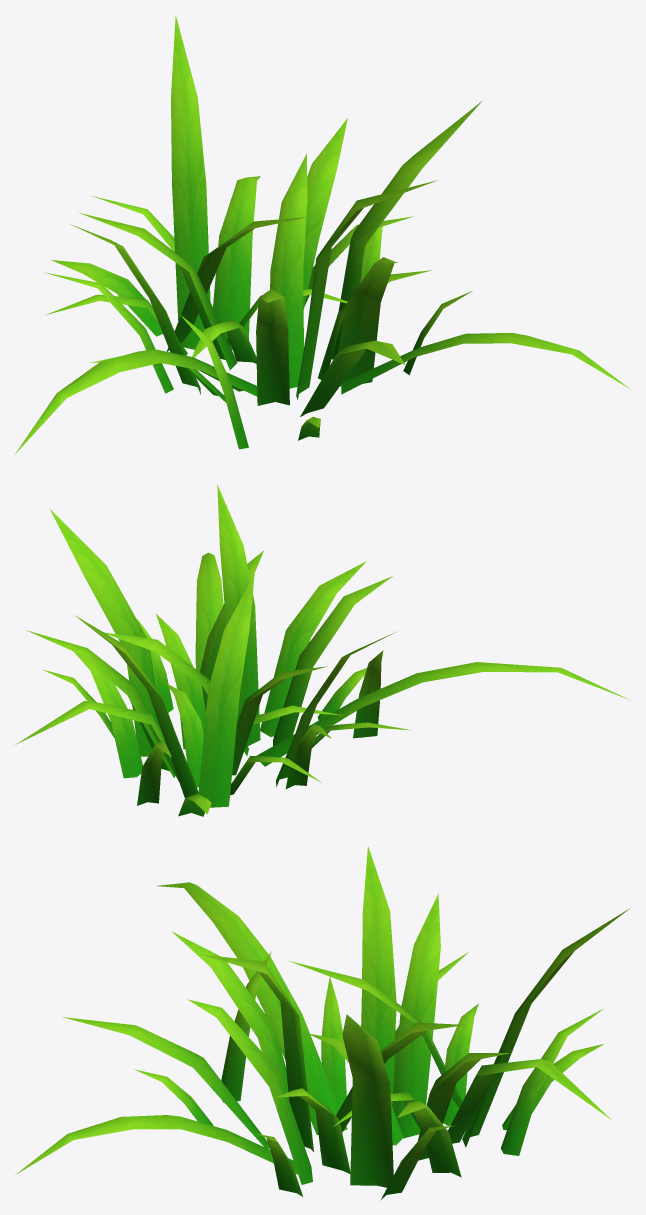
File: grass003.FBX
3 views of the same model, one above another, from view 1: azimuth 30°, elevation 25°; view 2: azimuth 150°, elevation 25°; view 3: azimuth 270°, elevation 25° (orthographic). The views are drawn at different scales.
Parts seen in each view (by area): view 1: grass003; view 2: grass003; view 3: grass003.
Part boxes in pixels (bbox=[...]): grass003: bbox=[15, 15, 630, 453]; grass003: bbox=[14, 485, 629, 816]; grass003: bbox=[15, 846, 629, 1200].
Size of the model in its own units: 3.89 by 1.72 by 3.64.
